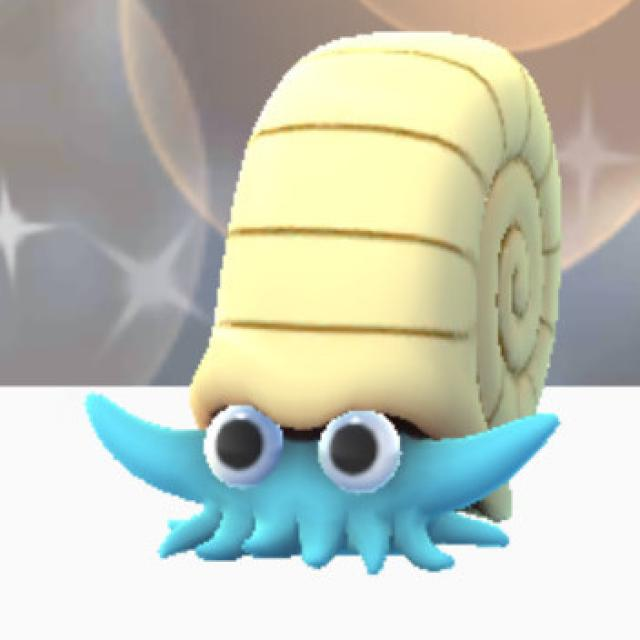Omanyte: (61, 31, 587, 574)
